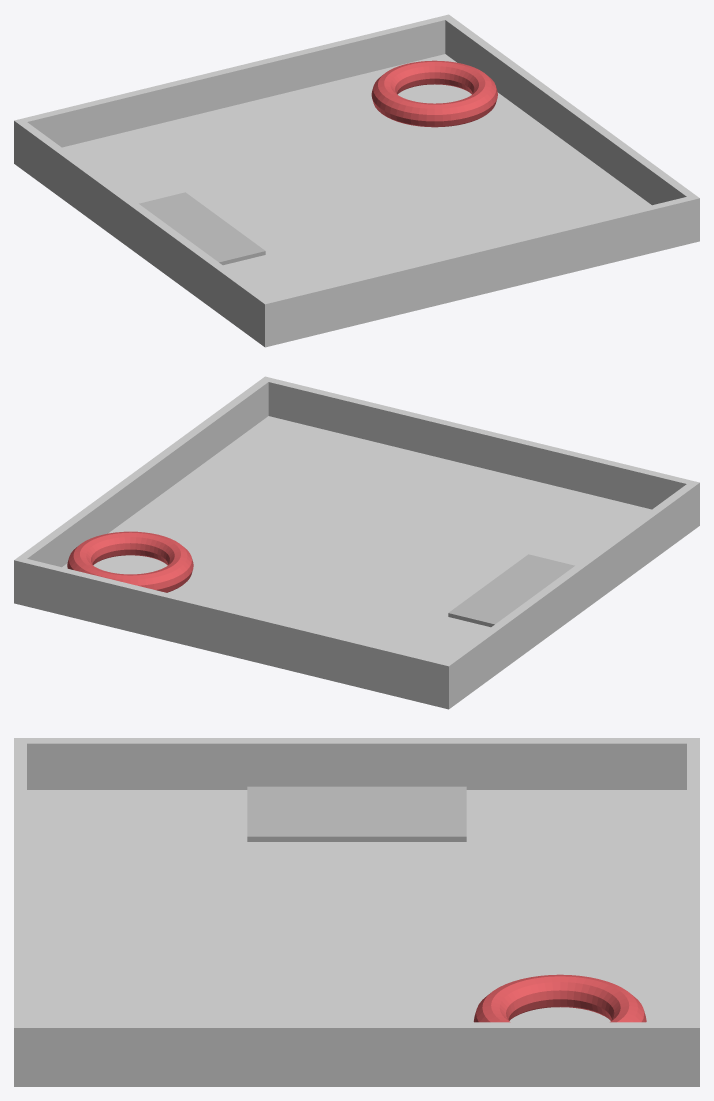
The model's file is modelCompress2.glb.
3 views of the same model, one above another, from view 1: azimuth 30°, elevation 25°; view 2: azimuth 150°, elevation 25°; view 3: azimuth 270°, elevation 25° (orthographic). The views are drawn at different scales.
Parts seen in each view (by area): view 1: Cube, Torus, Door; view 2: Cube, Torus, Door; view 3: Cube, Door, Torus.
Part boxes in pixels (bbox=[...]): Cube: bbox=[14, 14, 699, 347]; Torus: bbox=[371, 60, 497, 127]; Door: bbox=[139, 192, 265, 265]; Cube: bbox=[14, 376, 699, 709]; Torus: bbox=[67, 531, 193, 592]; Door: bbox=[448, 554, 574, 627]; Cube: bbox=[14, 738, 699, 1086]; Door: bbox=[247, 786, 466, 841]; Torus: bbox=[473, 974, 646, 1022].
Size of what is drawn, in the model's own units: 9.92 by 0.9403 by 9.92.
